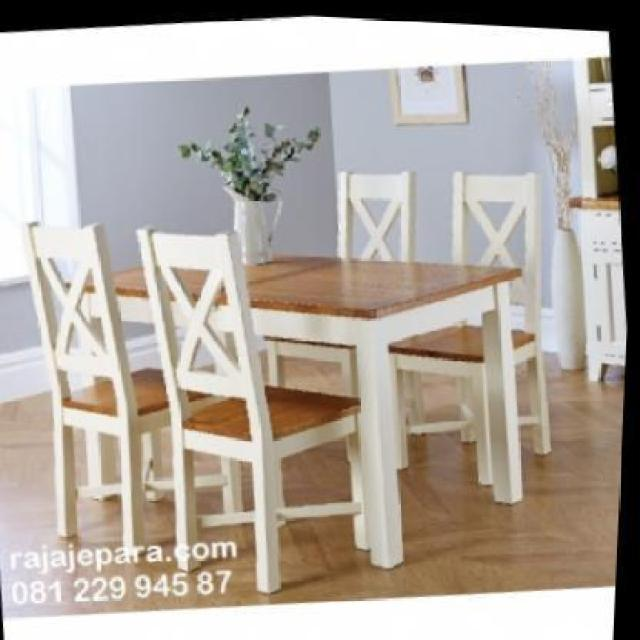tables: (60, 252, 523, 570)
